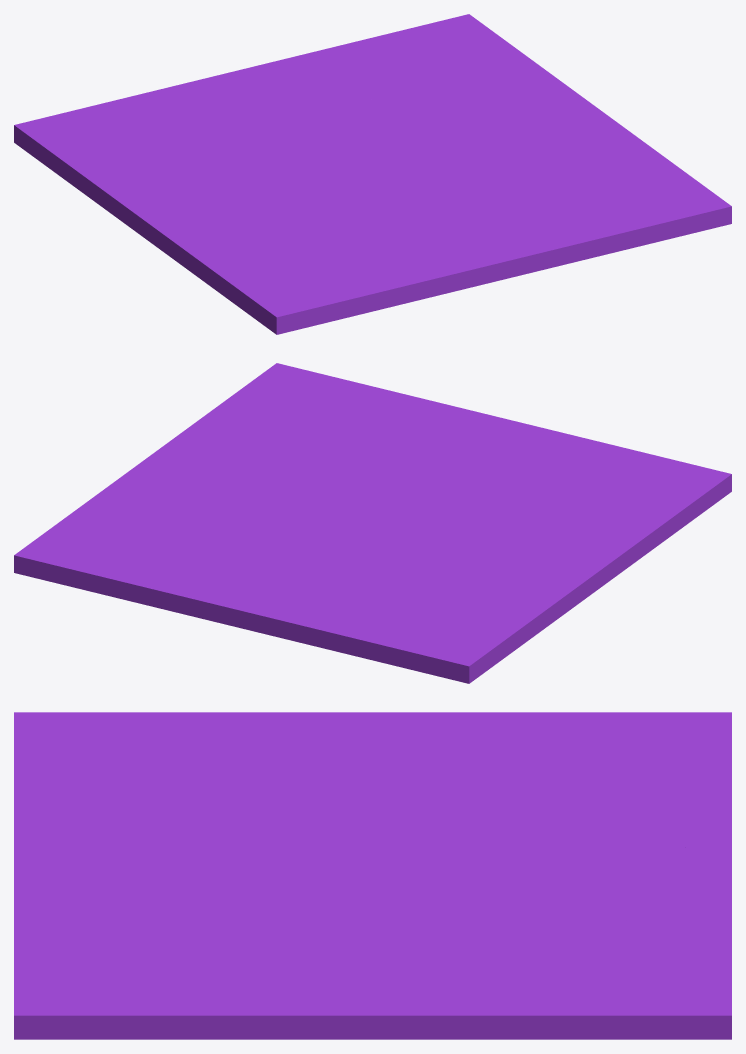
File: Platform_7_chunks.fbx
3 renders of one model, top to bottom at view 1: azimuth 30°, elevation 25°; view 2: azimuth 150°, elevation 25°; view 3: azimuth 270°, elevation 25°, orthographic. The views are drawn at different scales.
Parts seen in each view (by area): view 1: Platform_7_0, Platform_7_1, Platform_7_4, Platform_7_7, Platform_7_8, Platform_7_6, Platform_7_11, Platform_7_2, Platform_7_15, Platform_7_5, Platform_7_12, Platform_7_10 (+2 smaller); view 2: Platform_7_0, Platform_7_1, Platform_7_4, Platform_7_7, Platform_7_6, Platform_7_8, Platform_7_2, Platform_7_11, Platform_7_15, Platform_7_12, Platform_7_5, Platform_7_13 (+3 smaller); view 3: Platform_7_0, Platform_7_4, Platform_7_1, Platform_7_7, Platform_7_6, Platform_7_8, Platform_7_2, Platform_7_11, Platform_7_15, Platform_7_5, Platform_7_12, Platform_7_10 (+3 smaller).
Boxes of the visible parts, <box> form: Platform_7_0: <box>14,103,376,239</box>; Platform_7_1: <box>142,181,444,334</box>; Platform_7_4: <box>466,95,731,224</box>; Platform_7_7: <box>368,14,579,124</box>; Platform_7_8: <box>494,193,727,281</box>; Platform_7_6: <box>105,83,383,159</box>; Platform_7_11: <box>398,207,498,293</box>; Platform_7_2: <box>374,133,489,220</box>; Platform_7_15: <box>296,24,427,83</box>; Platform_7_5: <box>363,114,490,162</box>; Platform_7_12: <box>187,65,352,101</box>; Platform_7_10: <box>447,185,588,218</box>; Platform_7_0: <box>365,507,625,683</box>; Platform_7_1: <box>404,436,731,589</box>; Platform_7_4: <box>125,363,343,496</box>; Platform_7_7: <box>14,474,262,576</box>; Platform_7_6: <box>248,521,394,665</box>; Platform_7_8: <box>285,365,509,442</box>; Platform_7_2: <box>260,469,473,514</box>; Platform_7_11: <box>418,420,577,476</box>; Platform_7_15: <box>30,556,218,594</box>; Platform_7_12: <box>217,554,316,646</box>; Platform_7_5: <box>230,492,365,536</box>; Platform_7_13: <box>68,586,238,627</box>; Platform_7_0: <box>302,712,731,867</box>; Platform_7_4: <box>14,918,428,1039</box>; Platform_7_1: <box>14,712,330,853</box>; Platform_7_7: <box>407,904,731,1039</box>; Platform_7_6: <box>396,773,731,904</box>; Platform_7_8: <box>14,860,146,1010</box>; Platform_7_2: <box>202,838,400,932</box>; Platform_7_11: <box>14,815,206,890</box>; Platform_7_15: <box>620,890,731,987</box>; Platform_7_5: <box>379,863,508,950</box>; Platform_7_12: <box>565,828,731,905</box>; Platform_7_10: <box>140,872,223,952</box>.
Bounding box in the file's own units: 810 × 29.87 × 810.
